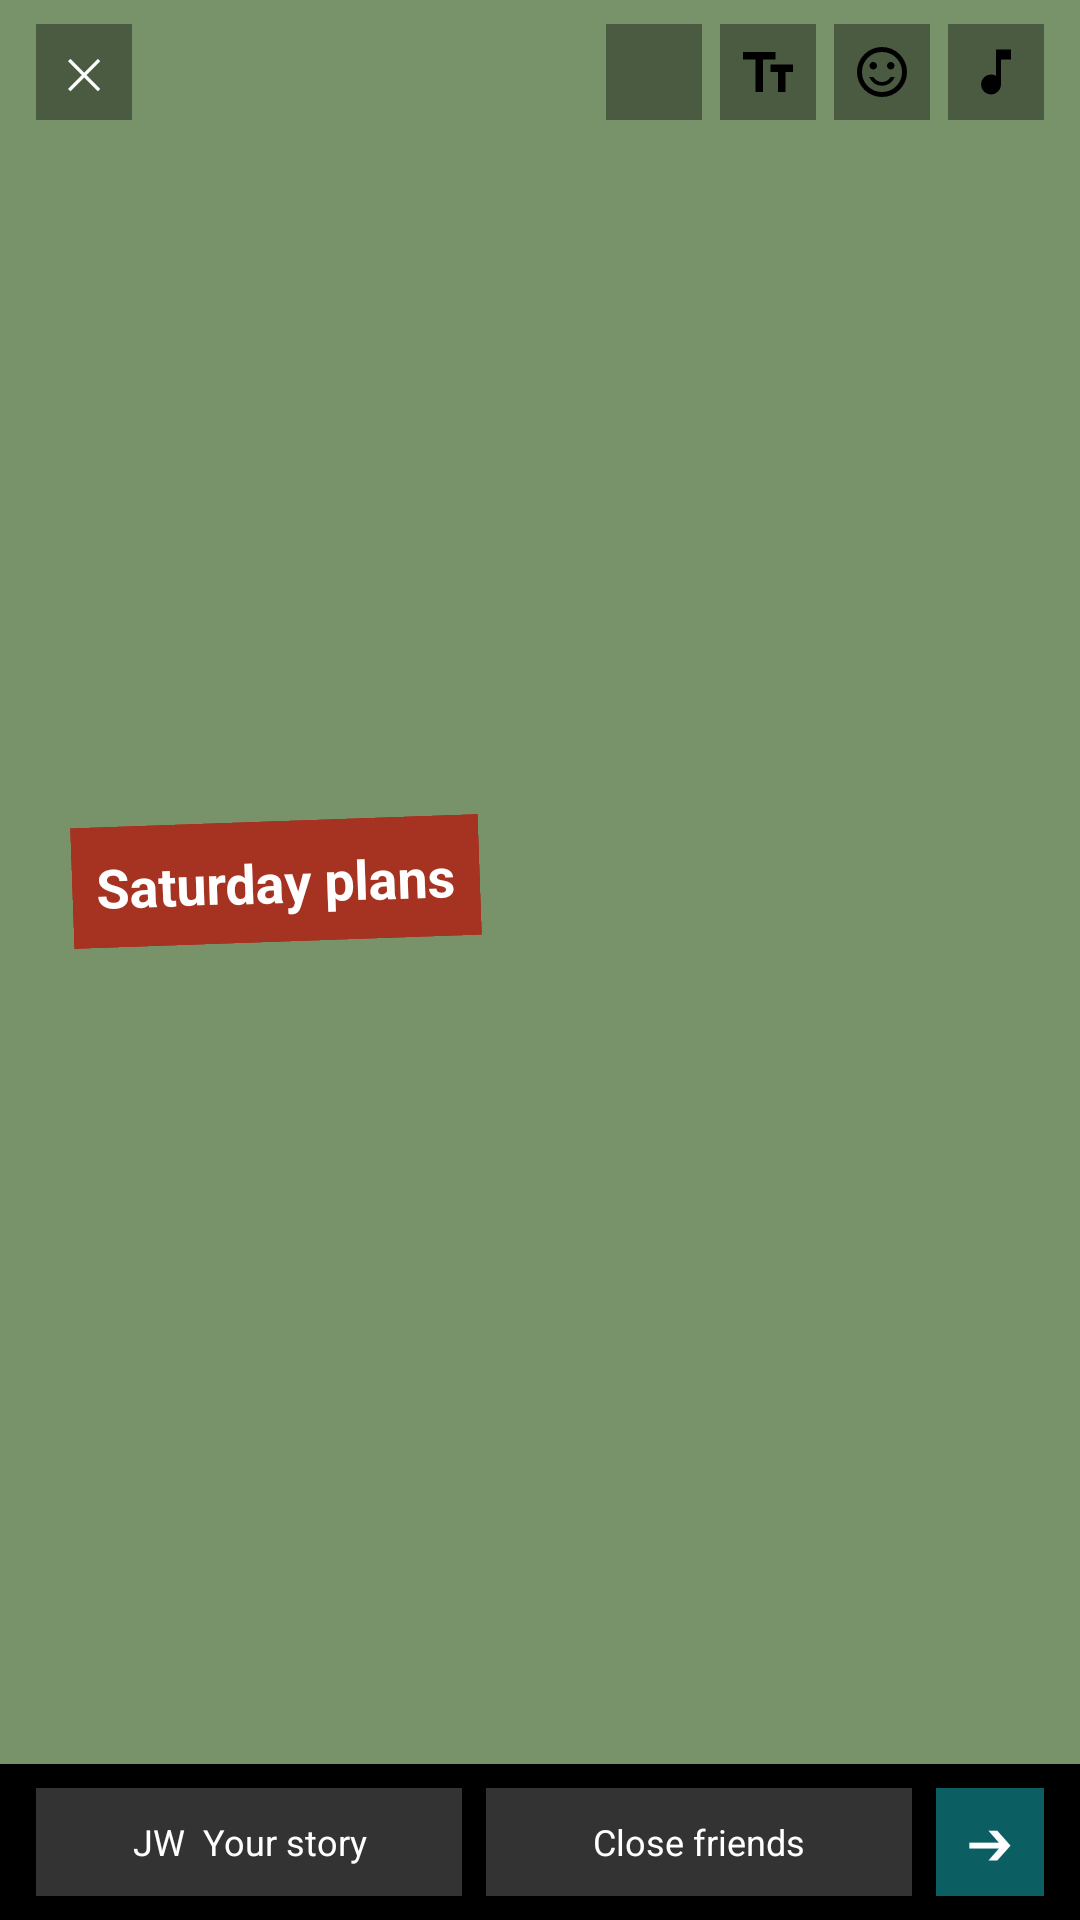

Icons on this 1080px x 1920px Android screen, each with its box as [x1,y1,x2,y2]:
Music: [948,24,1044,120]
Stickers: [834,24,930,120]
text fields: [720,24,816,120]
